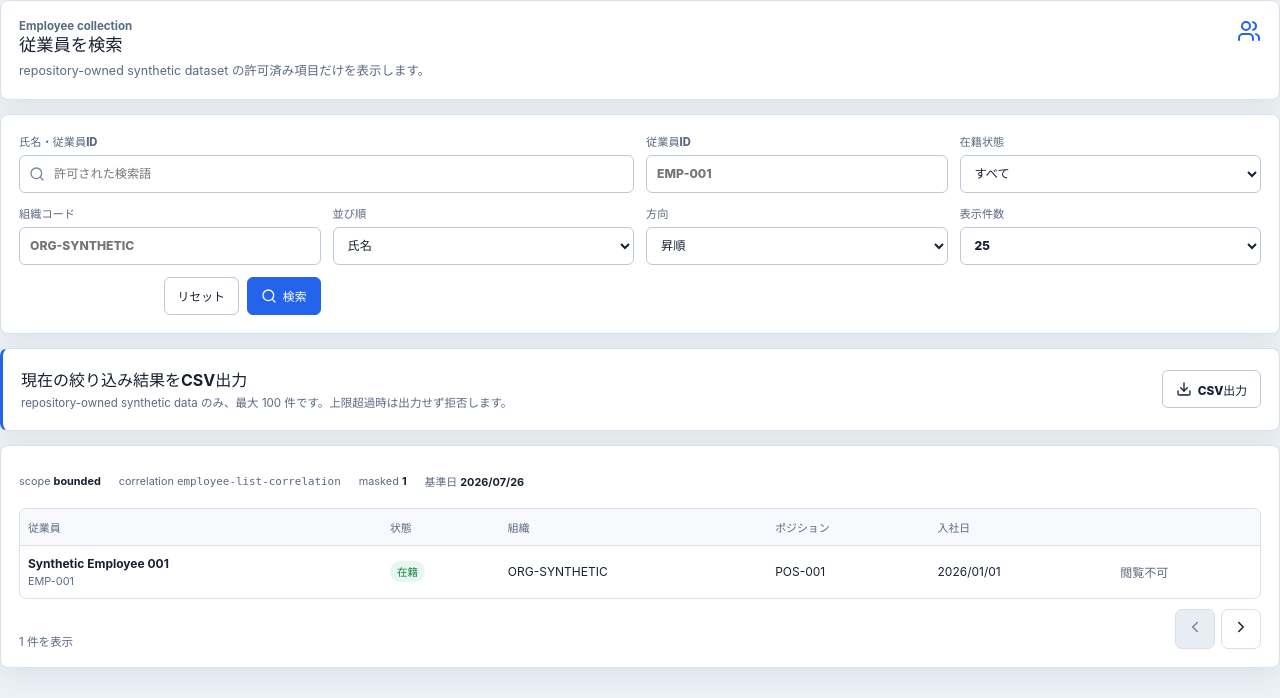
Test case: employee list screen › confirms a reason and downloads the server-owned bounded CSV
The width and height of the screenshot is (1280, 698).
Check: the text "Synthetic Employee 001" is shown, box 28,556 -> 169,571
Click the button "CSV出力": coordinates (1211, 389) 1162,370 -> 1261,408
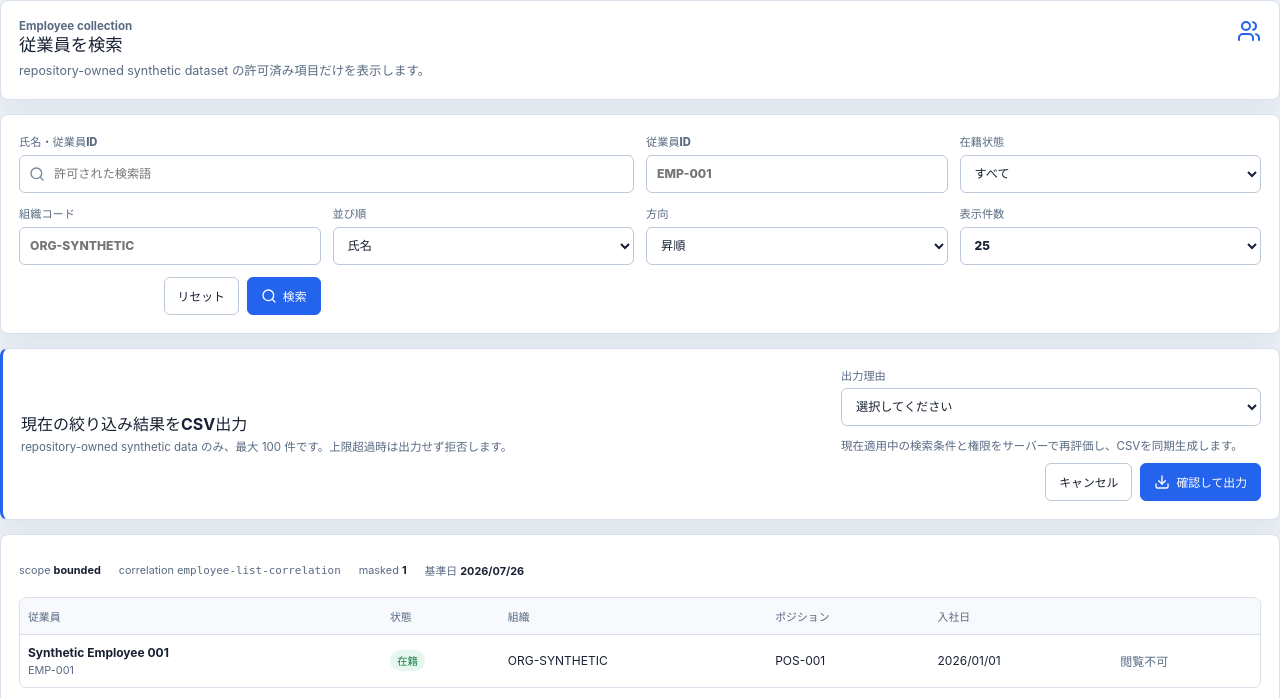
Select "業務照合" in the dropdown labelled "出力理由": coordinates (1051, 407) 841,388 -> 1261,426
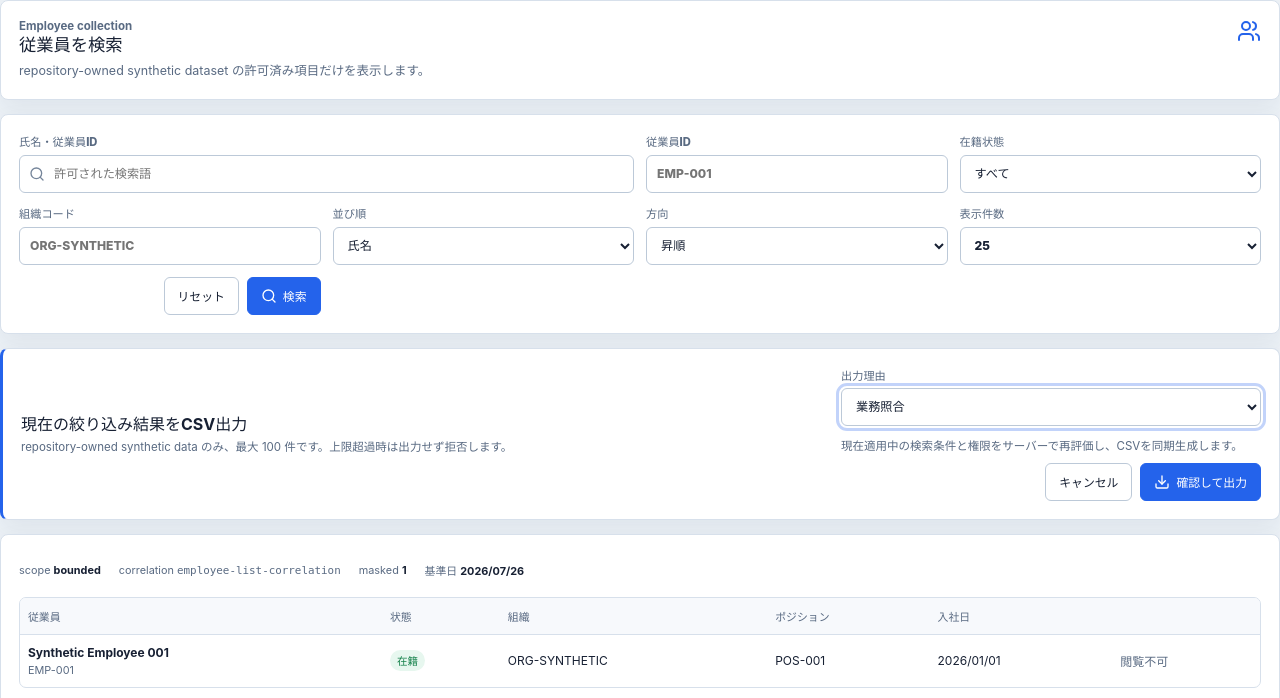
Click the button "確認して出力": coordinates (1201, 482) 1140,463 -> 1261,501
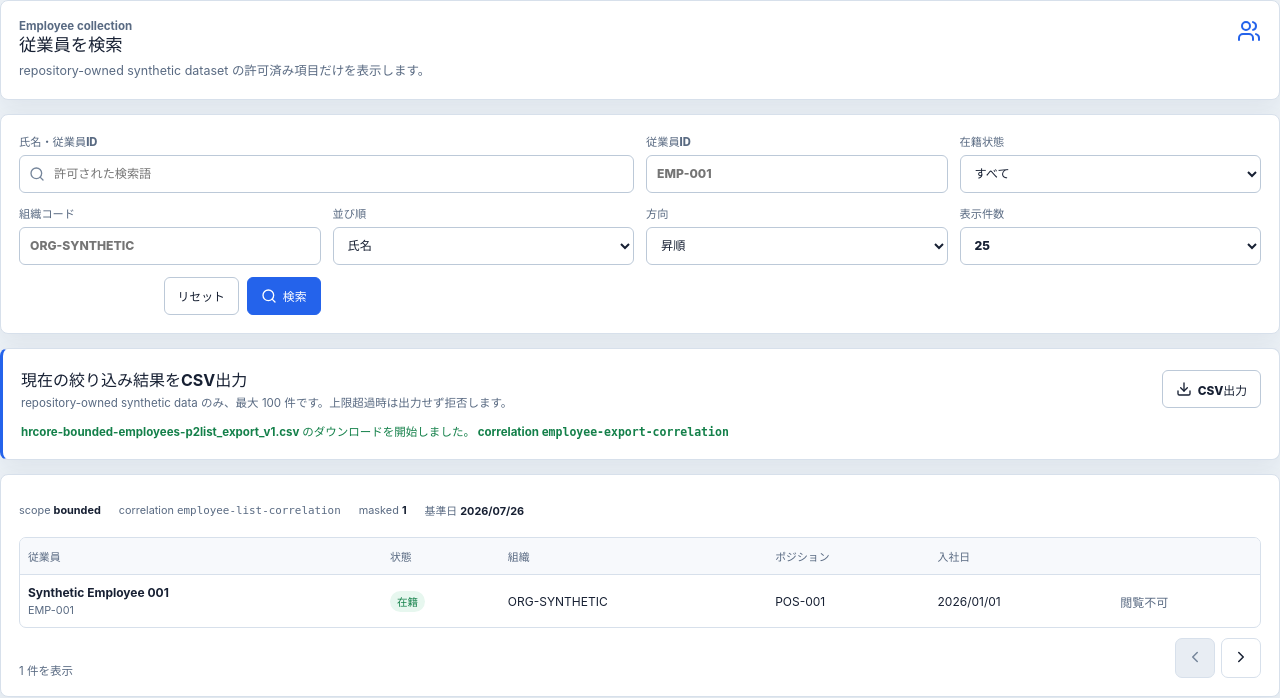
Check: the text "ダウンロードを開始しました" is shown, box 21,425 -> 475,439
